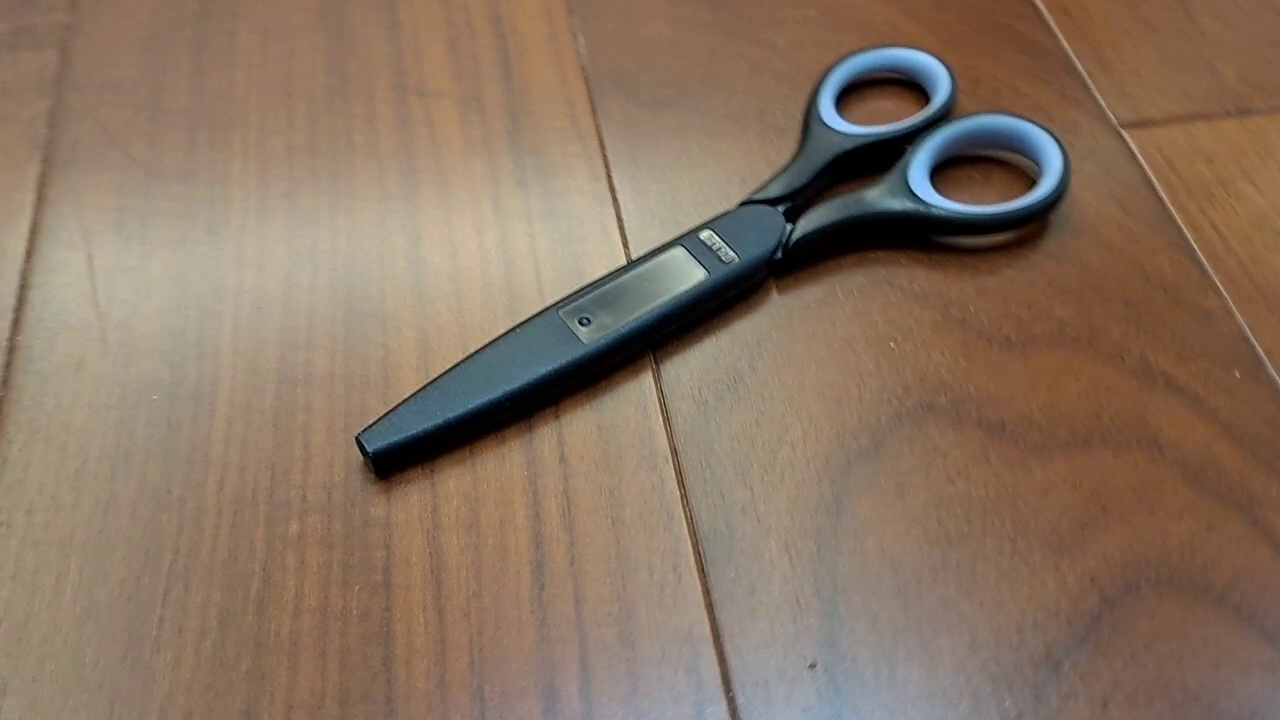scissors: (351, 41, 1073, 483)
